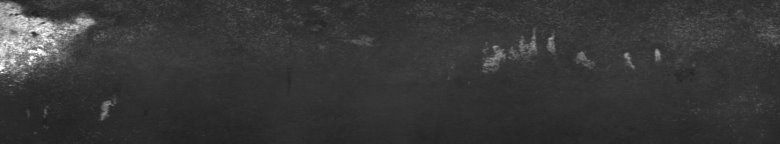kb: (4, 4, 116, 120)
